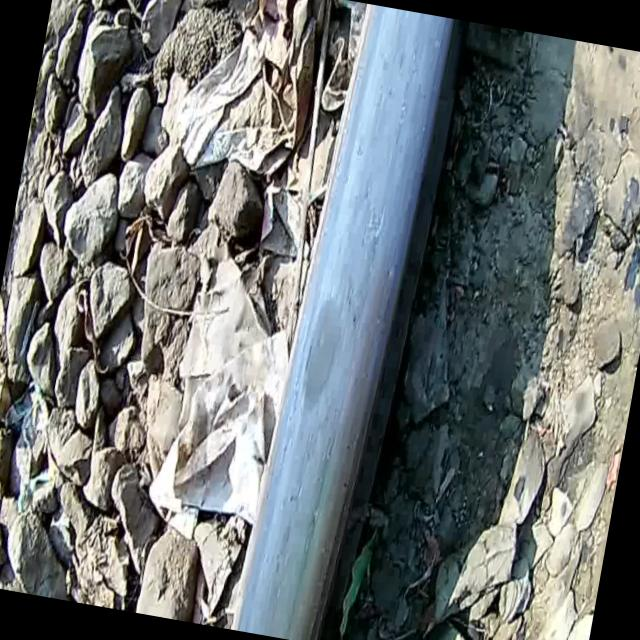Squats: (211, 0, 480, 640)
